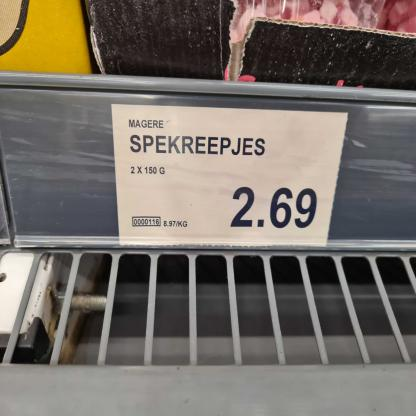prtg: (112, 104, 349, 249)
